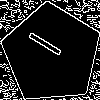I: (26, 28, 72, 64)
